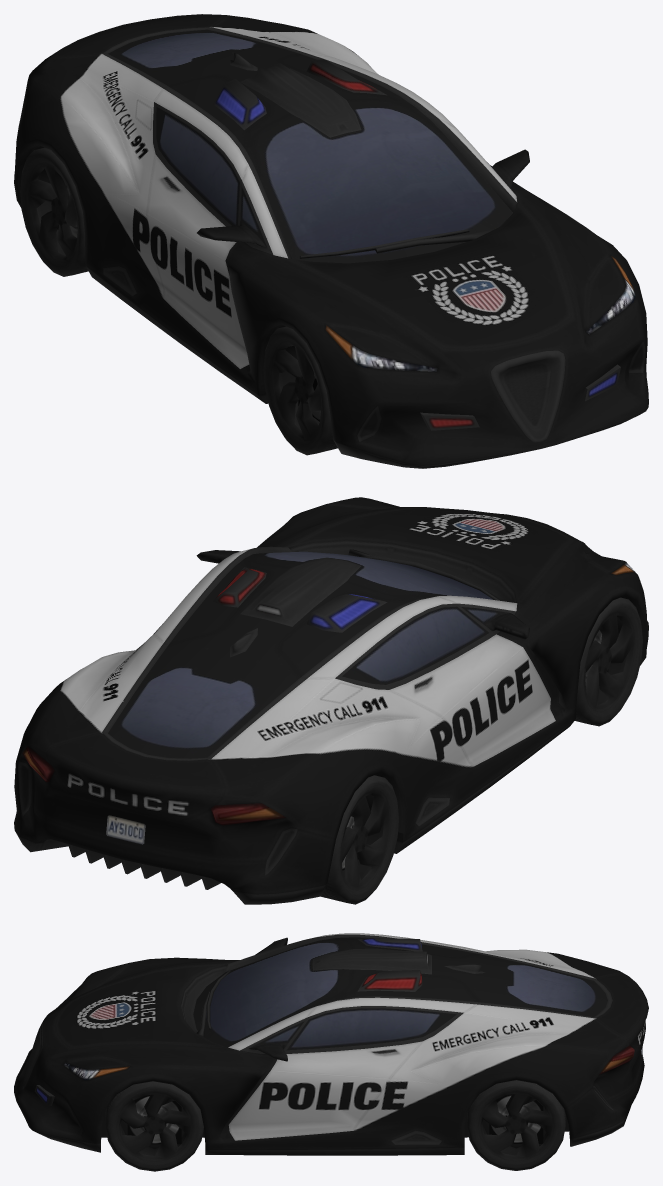
The model's file is FBX zet_one_concept_police_v.1.fbx.
The picture shows the model from 3 angles, top to bottom: view 1: azimuth 30°, elevation 25°; view 2: azimuth 150°, elevation 25°; view 3: azimuth 270°, elevation 25°; orthographic projection. The views are drawn at different scales.
Visible parts, largest first — view 1: Object_4, Object_2, Object_4.004, Object_4.003; view 2: Object_4, Object_2, Object_4.003, Object_4.004; view 3: Object_4, Object_2, Object_4.002, Object_4.001.
Part boxes in pixels (x1,y1,x2,y2): Object_4: [14, 14, 648, 468]; Object_2: [108, 29, 512, 263]; Object_4.004: [263, 326, 337, 455]; Object_4.003: [20, 147, 88, 276]; Object_4: [14, 497, 648, 904]; Object_2: [108, 551, 510, 758]; Object_4.003: [321, 775, 398, 904]; Object_4.004: [575, 597, 642, 726]; Object_4: [14, 933, 648, 1155]; Object_2: [193, 937, 607, 1050]; Object_4.002: [467, 1080, 565, 1170]; Object_4.001: [105, 1081, 203, 1171].
Size of the model in its own units: 2489 by 1526 by 5522.
